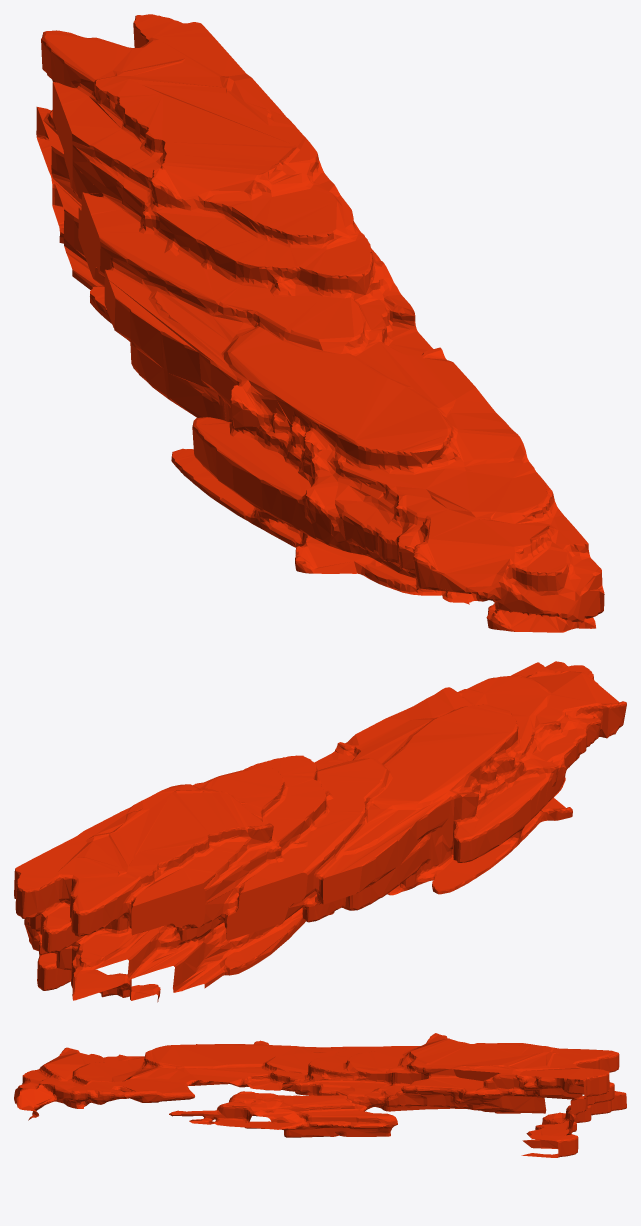
Rendered from canyon_rock_wall_02.fbx.
3 renders of one model, top to bottom at view 1: azimuth 30°, elevation 25°; view 2: azimuth 150°, elevation 25°; view 3: azimuth 270°, elevation 25°, orthographic. The views are drawn at different scales.
Parts seen in each view (by area): view 1: Circle.012; view 2: Circle.012; view 3: Circle.012.
Part boxes in pixels (box(x1,y1,x2,y2)): Circle.012: box(36, 14, 604, 632); Circle.012: box(14, 661, 626, 1002); Circle.012: box(14, 1033, 626, 1157).
Bounding box in the file's own units: 2287 × 1508 × 6698.
